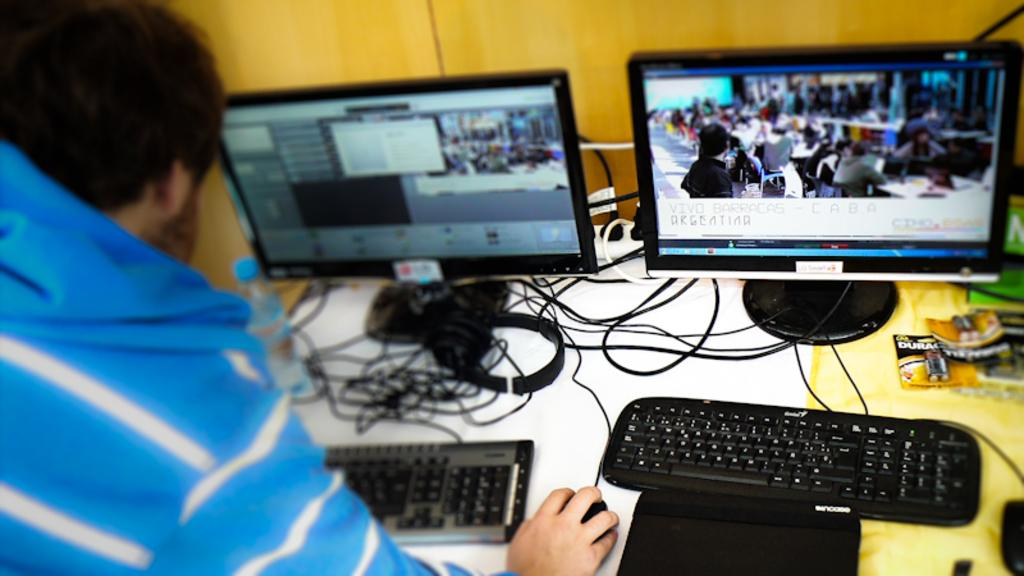Computer-keyboard: (600, 396, 982, 529), (320, 440, 534, 541)
Computer-monitor: (635, 35, 1011, 349), (219, 61, 596, 347)
